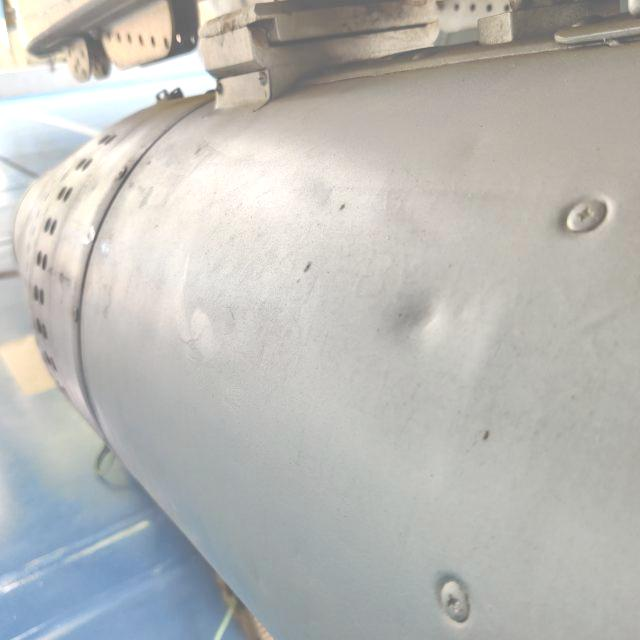dent: (374, 265, 466, 355)
